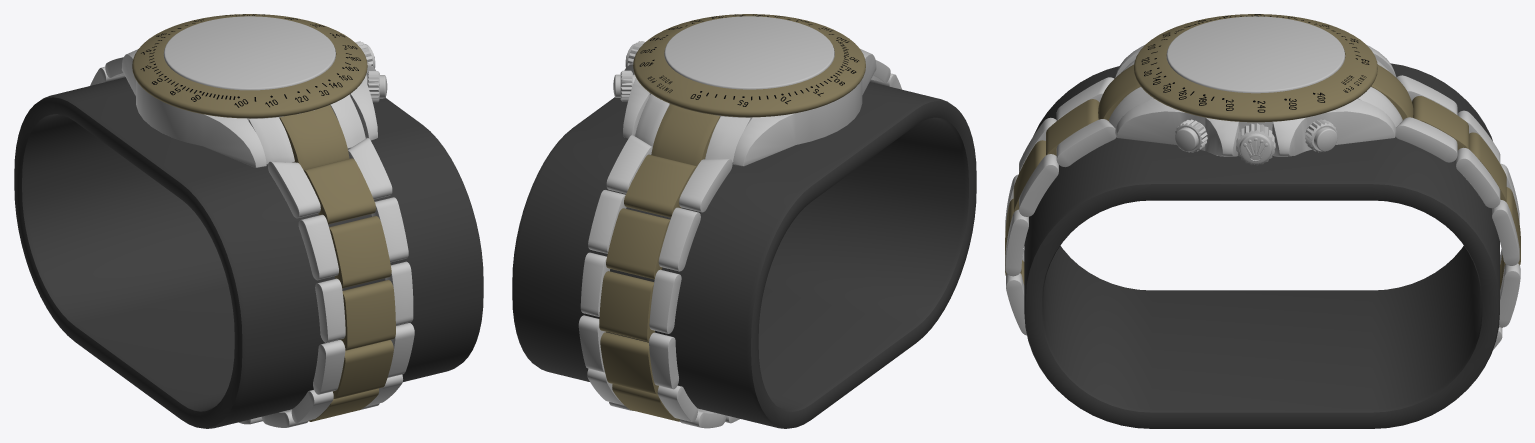
Rendered from rolex.glb.
The picture shows the model from 3 angles, left to right: view 1: azimuth 30°, elevation 25°; view 2: azimuth 150°, elevation 25°; view 3: azimuth 270°, elevation 25°; orthographic projection. The views are drawn at different scales.
Parts seen in each view (by area): view 1: base, rolex, glass; view 2: base, rolex, glass; view 3: base, rolex, glass.
Part boxes in pixels (x1,y1,x2,y2): base: (14,77,483,428); rolex: (90,14,414,427); glass: (163,16,335,90); base: (512,82,976,428); rolex: (578,14,901,428); glass: (664,16,834,89); base: (1024,63,1499,428); rolex: (1005,14,1520,349); glass: (1166,16,1345,93).
Bounding box in the file's own units: 0.5 × 0.651 × 0.8839.
